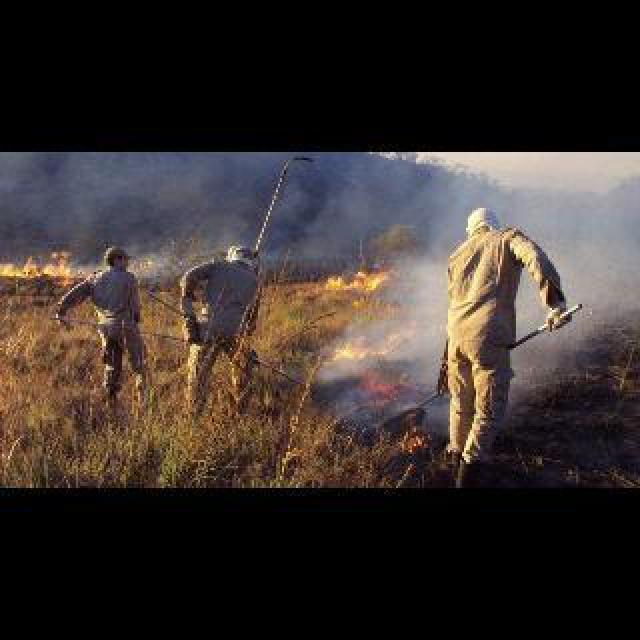Fire: (318, 330, 436, 364), (326, 262, 398, 306), (2, 246, 78, 286), (360, 372, 410, 404), (400, 412, 436, 446), (132, 256, 154, 268)
